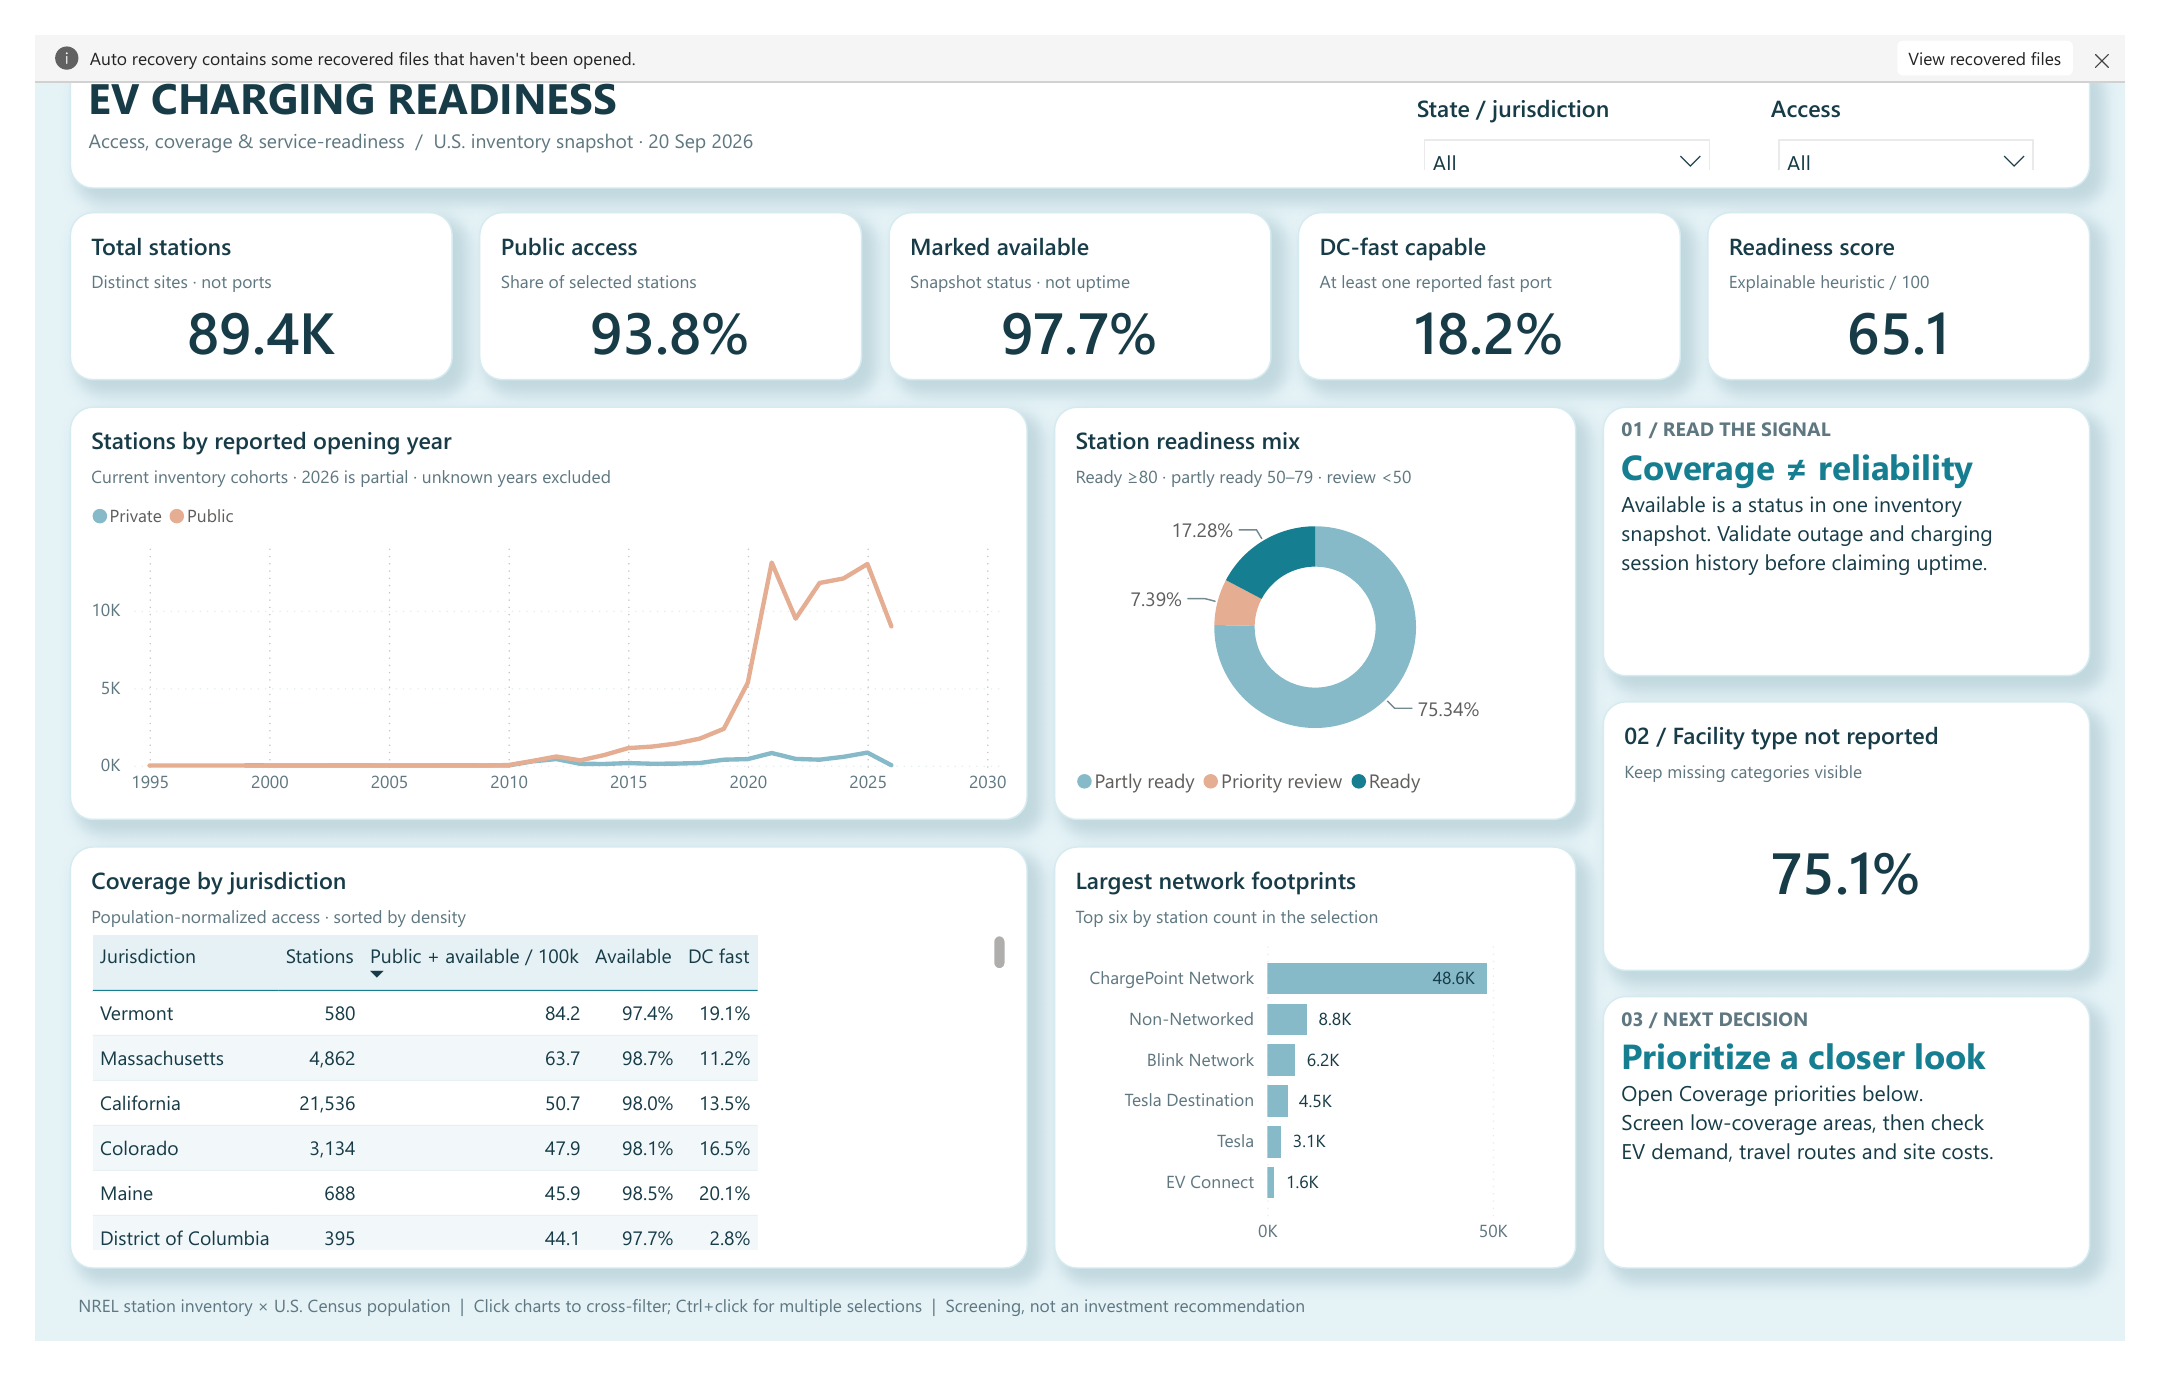

The page's visual inventory and layout, read from the dashboard file:
{"tool":"powerbi","page":{"name":"01  Network overview","canvas":[1440,900],"ordinal":0},"visuals":[{"type":"textbox","box":[24,18,1392,88],"z":1000},{"type":"slicer","title":"State / jurisdiction","fields":{"Values":["Geography.state_name"]},"box":[938,28,235,65],"z":1001},{"type":"slicer","title":"Access","fields":{"Values":["Stations.access_label"]},"box":[1182,28,214,65],"z":1002},{"type":"card","title":"Total stations","fields":{"Values":["Stations.Total Stations"]},"box":[24,122,264,116],"z":1003},{"type":"card","title":"Public access","fields":{"Values":["Stations.Public Share"]},"box":[306,122,264,116],"z":1004},{"type":"card","title":"Marked available","fields":{"Values":["Stations.Availability Rate"]},"box":[588,122,264,116],"z":1005},{"type":"card","title":"DC-fast capable","fields":{"Values":["Stations.DC Fast Share"]},"box":[870,122,264,116],"z":1006},{"type":"card","title":"Readiness score","fields":{"Values":["Stations.Average Readiness"]},"box":[1152,122,264,116],"z":1007},{"type":"lineChart","title":"Stations by reported opening year","fields":{"Category":["Stations.open_year"],"Series":["Stations.access_label"],"Y":["Stations.Opening Cohort Stations"]},"box":[24,256,660,285],"z":1008},{"type":"donutChart","title":"Station readiness mix","fields":{"Category":["Stations.readiness_band"],"Y":["Stations.Total Stations"]},"box":[702,256,360,285],"z":1009},{"type":"tableEx","title":"Coverage by jurisdiction","fields":{"Values":["Geography.state_name","Stations.Total Stations","Stations.Coverage per 100k","Stations.Availability Rate","Stations.DC Fast Share"]},"box":[24,559,660,291],"z":1010},{"type":"clusteredBarChart","title":"Largest network footprints","fields":{"Category":["Stations.ev_network"],"Y":["Stations.Top Network Stations"]},"box":[702,559,360,291],"z":1011},{"type":"textbox","box":[1080,256,336,186],"z":1012},{"type":"card","title":"02 / Facility type not reported","fields":{"Values":["Stations.Unknown Facility Share"]},"box":[1080,459,336,186],"z":1013},{"type":"textbox","box":[1080,662,336,188],"z":1014},{"type":"textbox","box":[30,864,1380,28],"z":1015}]}

Visuals, with their boxes on the page's 1440x900 design canvas (x1, y1, x2, y2). These are canvas units, not pixel positions in the 2160x1377 screenshot, which may show the page scaled, cropped or inside an application window:
textbox: rect(24, 18, 1416, 106)
"State / jurisdiction" slicer: rect(938, 28, 1173, 93)
"Access" slicer: rect(1182, 28, 1396, 93)
"Total stations" card: rect(24, 122, 288, 238)
"Public access" card: rect(306, 122, 570, 238)
"Marked available" card: rect(588, 122, 852, 238)
"DC-fast capable" card: rect(870, 122, 1134, 238)
"Readiness score" card: rect(1152, 122, 1416, 238)
"Stations by reported opening year" lineChart: rect(24, 256, 684, 541)
"Station readiness mix" donutChart: rect(702, 256, 1062, 541)
"Coverage by jurisdiction" tableEx: rect(24, 559, 684, 850)
"Largest network footprints" clusteredBarChart: rect(702, 559, 1062, 850)
textbox: rect(1080, 256, 1416, 442)
"02 / Facility type not reported" card: rect(1080, 459, 1416, 645)
textbox: rect(1080, 662, 1416, 850)
textbox: rect(30, 864, 1410, 892)
